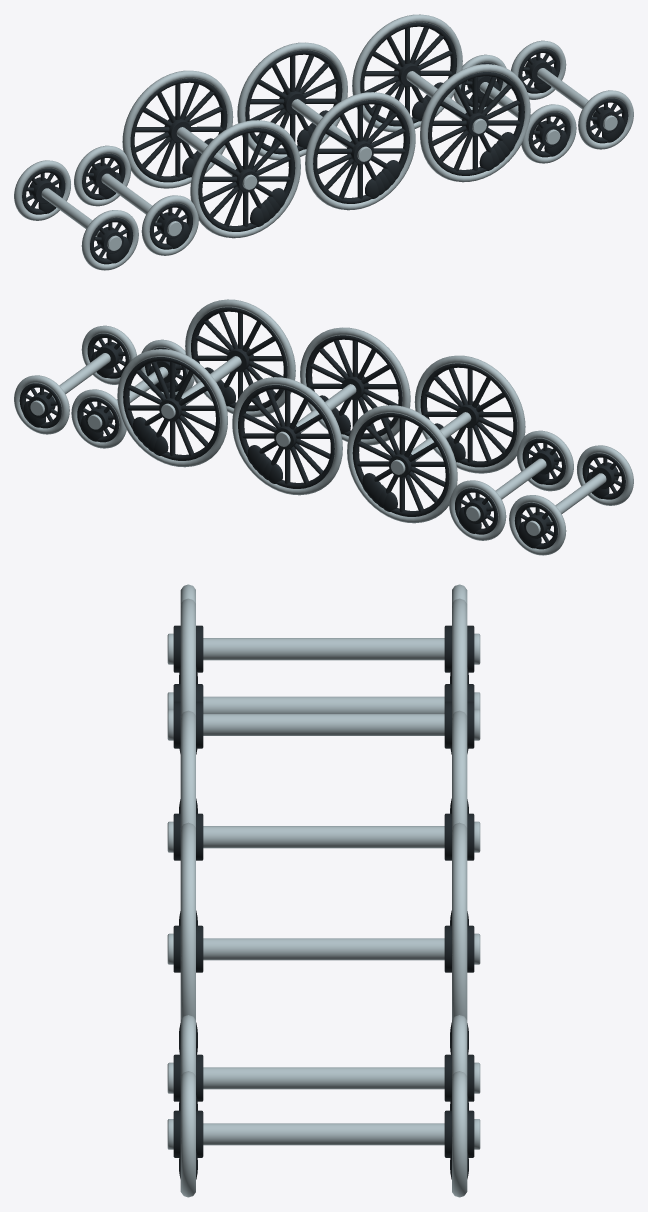
The model's file is wheels-and-axles.glb.
The picture shows the model from 3 angles, top to bottom: view 1: azimuth 30°, elevation 25°; view 2: azimuth 150°, elevation 25°; view 3: azimuth 270°, elevation 25°; orthographic projection. The views are drawn at different scales.
Visible parts, largest first — view 1: Wheel 02 L steel tyre, Wheel 03 L steel tyre, Wheel 01 L steel tyre, Wheel 01 R steel tyre, Wheel 02 R steel tyre, Wheel 03 R steel tyre, Wheel 01 L cast rim, Wheel 02 L cast rim, Wheel 03 L cast rim, Wheel 01 R cast rim, Wheel 05 L steel tyre, Wheel 04 L steel tyre (+25 smaller); view 2: Wheel 02 R steel tyre, Wheel 03 R steel tyre, Wheel 01 R steel tyre, Wheel 01 L steel tyre, Wheel 02 L steel tyre, Wheel 03 L steel tyre, Wheel 01 R cast rim, Wheel 02 R cast rim, Wheel 03 R cast rim, Wheel 01 L cast rim, Wheel 05 R steel tyre, Wheel 04 R steel tyre (+25 smaller); view 3: Axle 2, Axle 3, Axle 4, Axle 6, Axle 7, Axle 1, Axle 5, Wheel 03 L steel tyre, Wheel 03 R steel tyre, Wheel 07 L steel tyre, Wheel 07 R steel tyre, Wheel 01 L steel tyre (+5 smaller).
Boxes of the visible parts, box(x1,y1,x2,y2) form: Wheel 02 L steel tyre: box(305, 92, 415, 210); Wheel 03 L steel tyre: box(420, 64, 530, 182); Wheel 01 L steel tyre: box(190, 120, 300, 238); Wheel 01 R steel tyre: box(122, 70, 233, 188); Wheel 02 R steel tyre: box(237, 42, 347, 160); Wheel 03 R steel tyre: box(352, 14, 462, 132); Wheel 01 L cast rim: box(198, 128, 295, 231); Wheel 02 L cast rim: box(313, 100, 409, 203); Wheel 03 L cast rim: box(428, 72, 524, 175); Wheel 01 R cast rim: box(130, 78, 227, 182); Wheel 05 L steel tyre: box(141, 195, 198, 255); Wheel 04 L steel tyre: box(81, 210, 138, 270); Wheel 02 R steel tyre: box(232, 377, 342, 495); Wheel 03 R steel tyre: box(117, 349, 227, 467); Wheel 01 R steel tyre: box(347, 405, 457, 523); Wheel 01 L steel tyre: box(414, 355, 525, 473); Wheel 02 L steel tyre: box(300, 327, 410, 445); Wheel 03 L steel tyre: box(185, 299, 295, 417); Wheel 01 R cast rim: box(352, 413, 449, 516); Wheel 02 R cast rim: box(238, 385, 334, 488); Wheel 03 R cast rim: box(123, 357, 219, 460); Wheel 01 L cast rim: box(420, 363, 517, 467); Wheel 05 R steel tyre: box(449, 480, 506, 540); Wheel 04 R steel tyre: box(509, 495, 566, 555); Axle 2: box(203, 826, 444, 848); Axle 3: box(203, 938, 444, 960); Axle 4: box(203, 638, 444, 660); Axle 6: box(203, 1067, 444, 1089); Axle 7: box(203, 1123, 444, 1145); Axle 1: box(203, 714, 444, 735); Axle 5: box(203, 696, 444, 713); Wheel 03 L steel tyre: box(180, 822, 195, 1019); Wheel 03 R steel tyre: box(452, 822, 467, 1019); Wheel 07 L steel tyre: box(180, 1071, 195, 1197); Wheel 07 R steel tyre: box(452, 1071, 467, 1197); Wheel 01 L steel tyre: box(180, 598, 195, 715).
Size of the model in its own units: 8.64 by 1.72 by 2.12.
